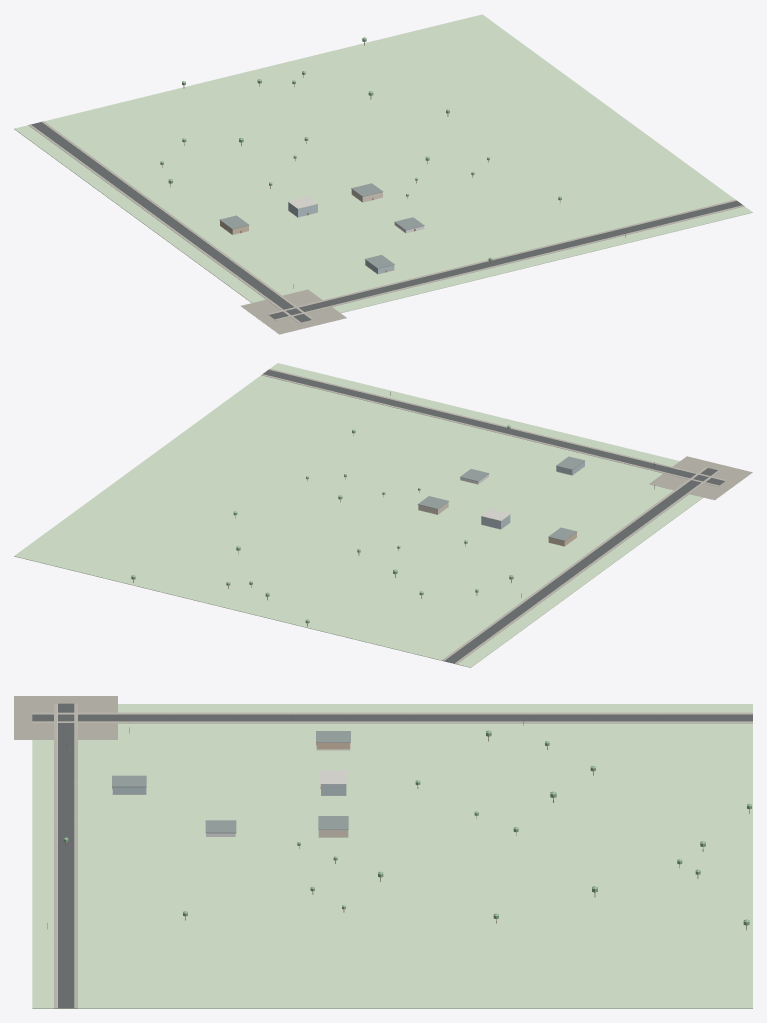
File: chunk_2_5_low.glb
3 renders of one model, top to bottom at view 1: azimuth 30°, elevation 25°; view 2: azimuth 150°, elevation 25°; view 3: azimuth 270°, elevation 25°, orthographic. The views are drawn at different scales.
Visible parts, largest first — view 1: city_grass, city_world_asphalt, city_world_sidewalk, city_village_stone, city_curb, city_roof_slate; view 2: city_grass, city_world_asphalt, city_world_sidewalk, city_village_stone, city_curb, city_roof_slate; view 3: city_grass, city_world_asphalt, city_world_sidewalk, city_village_stone, city_roof_slate, city_curb, city_foliage_dark, city_wall_blue.
Boxes of the visible parts, box(x1,y1,x2,y2) form: city_grass: box(14, 14, 752, 313); city_world_asphalt: box(31, 122, 742, 322); city_world_sidewalk: box(28, 121, 744, 322); city_village_stone: box(241, 289, 346, 334); city_curb: box(31, 122, 740, 322); city_roof_slate: box(219, 183, 424, 268); city_grass: box(14, 363, 703, 667); city_world_asphalt: box(263, 370, 724, 663); city_world_sidewalk: box(261, 368, 726, 663); city_village_stone: box(649, 456, 752, 500); city_curb: box(262, 369, 724, 662); city_roof_slate: box(417, 456, 585, 540); city_grass: box(32, 704, 752, 1008); city_world_asphalt: box(32, 703, 752, 1008); city_world_sidewalk: box(32, 703, 752, 1008); city_village_stone: box(14, 696, 117, 739); city_roof_slate: box(112, 731, 350, 833); city_curb: box(32, 703, 752, 1008); city_foliage_dark: box(63, 730, 751, 925); city_wall_blue: box(112, 784, 346, 795).
Bounding box in the file's own units: 525 × 9.93 × 525.
